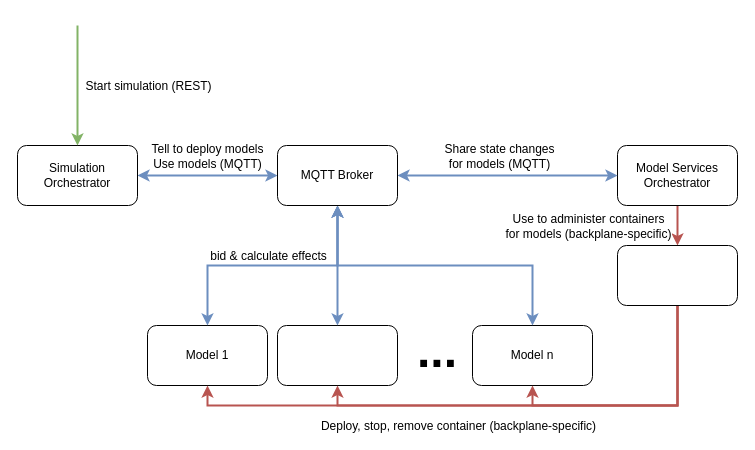
The diagram is 755 pixels wide and 450 high, and some of its shapes have lost their labels. The shapes that lost their labels are listed below. From the top down, each one's centre as x and y in pixels, then its label:
At (x=677, y=275): "Deployment backplane".
At (x=337, y=355): "Model 2".
